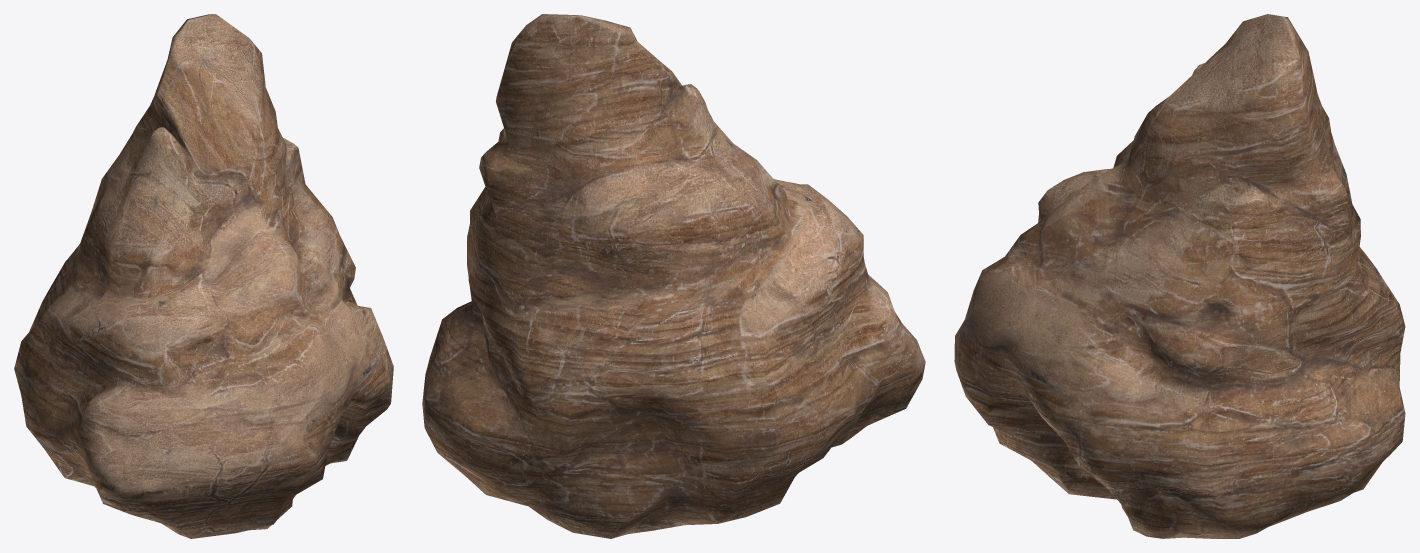
The model's file is rock_sandstone_medium_02.dae.
The picture shows the model from 3 angles, left to right: view 1: azimuth 30°, elevation 25°; view 2: azimuth 150°, elevation 25°; view 3: azimuth 270°, elevation 25°; orthographic projection. The views are drawn at different scales.
Visible parts, largest first — view 1: rock_sandstone_medium_02_LowPoly4; view 2: rock_sandstone_medium_02_LowPoly4; view 3: rock_sandstone_medium_02_LowPoly4.
Boxes of the visible parts, left/top/right/bottom form: rock_sandstone_medium_02_LowPoly4: left=14, top=14, right=393, bottom=538; rock_sandstone_medium_02_LowPoly4: left=422, top=14, right=925, bottom=538; rock_sandstone_medium_02_LowPoly4: left=954, top=14, right=1405, bottom=538.
Size of the model in its own units: 4.11 by 4.97 by 4.17.
